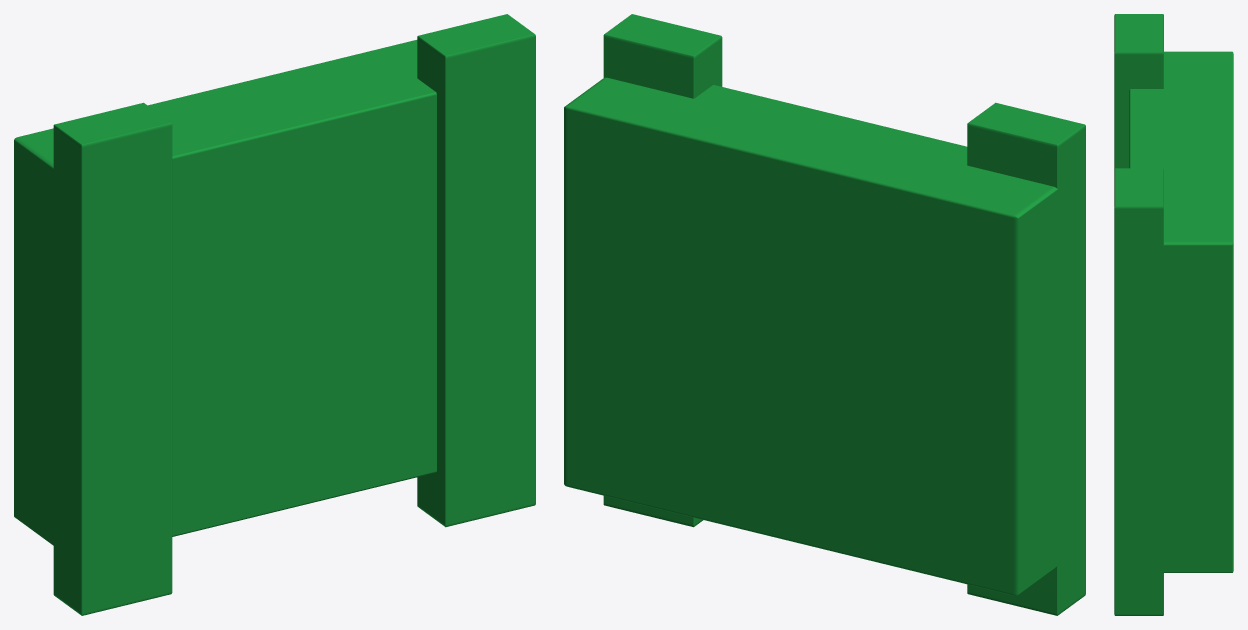
File: body.obj
The picture shows the model from 3 angles, left to right: view 1: azimuth 30°, elevation 25°; view 2: azimuth 150°, elevation 25°; view 3: azimuth 270°, elevation 25°; orthographic projection. The views are drawn at different scales.
Parts seen in each view (by area): view 1: Object.1, Object.2, Object.3; view 2: Object.1, Object.2, Object.3; view 3: Object.1, Object.3, Object.2.
Part boxes in pixels (x1,y1,x2,y2): Object.1: [14, 40, 436, 558]; Object.2: [53, 102, 172, 615]; Object.3: [417, 14, 535, 527]; Object.1: [564, 77, 1076, 595]; Object.2: [967, 102, 1085, 615]; Object.3: [603, 14, 722, 527]; Object.1: [1129, 51, 1233, 572]; Object.3: [1114, 168, 1163, 615]; Object.2: [1114, 14, 1163, 169].
Size of the model in its own units: 25 by 24.77 by 6.53.
